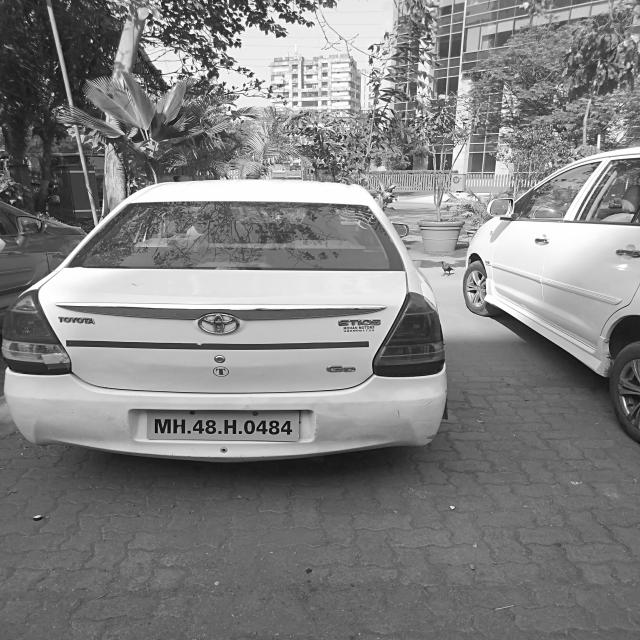car: (11, 174, 453, 471)
license-plate: (144, 411, 302, 440)
